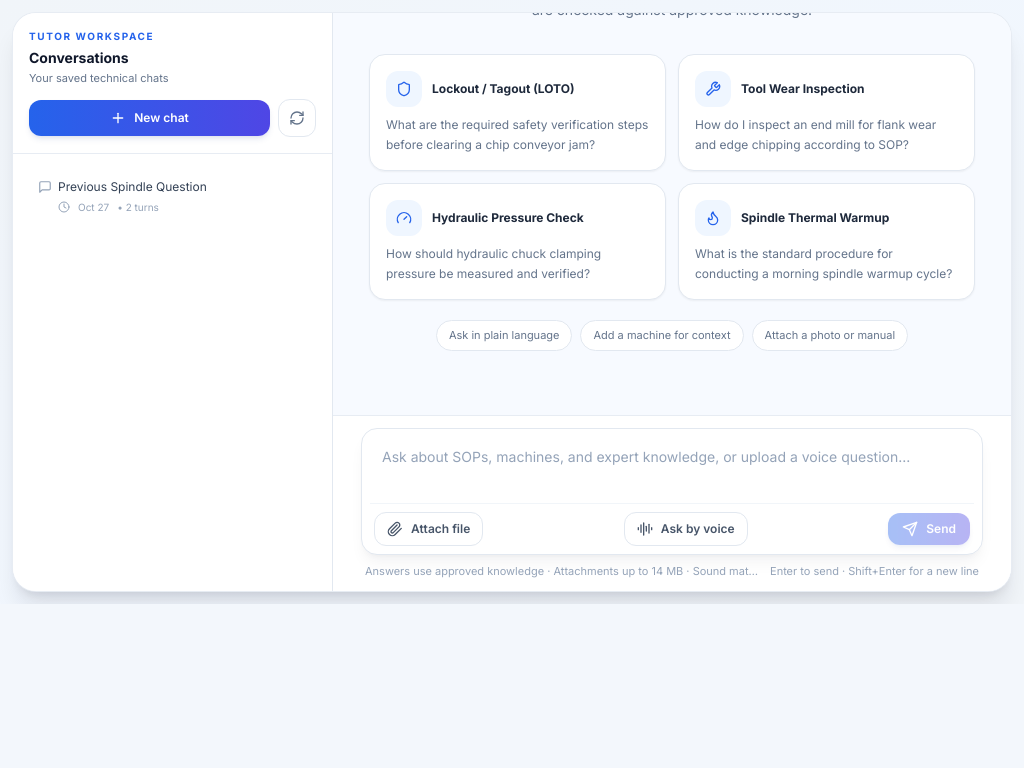
it: AI Knowledge Assistant UI Component Tests › sends question, streams tokens, displays citations and opens source drawer
The image size is (1024, 768).
(page scrolled)
Note: Type query and send
Type "How long should spindle warmup be?" into the text box with placeholder "Ask about SOPs, machines".
click(672, 466); type("How long should spindle warmup be?")  # box [370, 436, 974, 496]
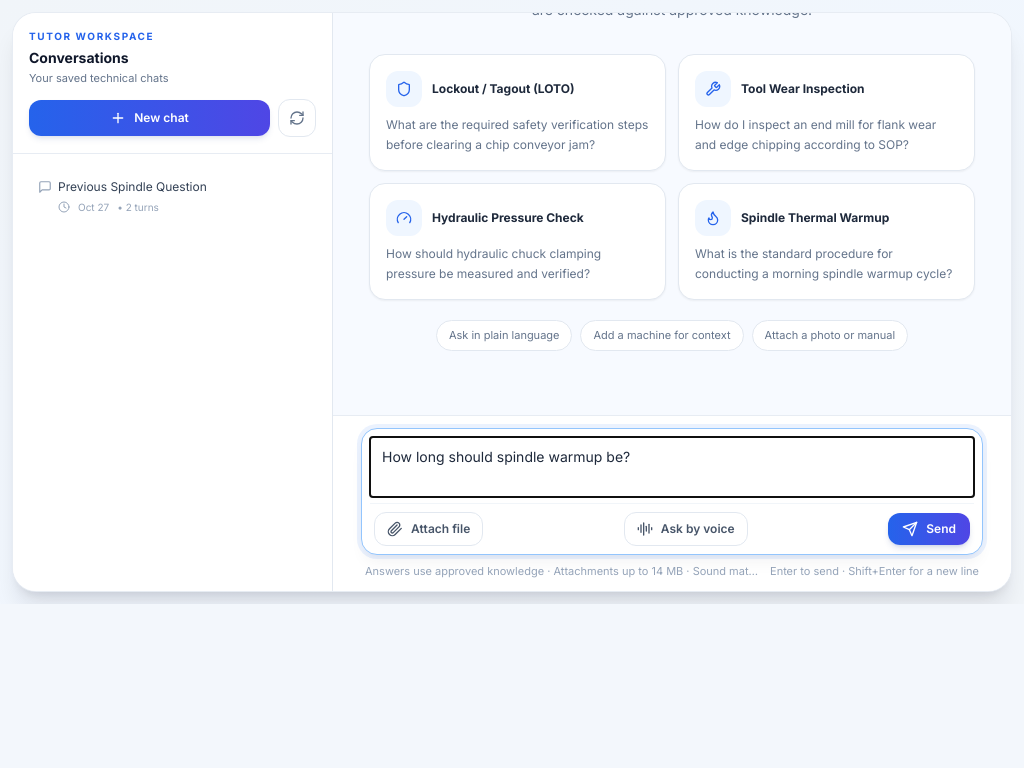
Click the button titled "Send query".
click(929, 528)  # box [888, 512, 970, 544]
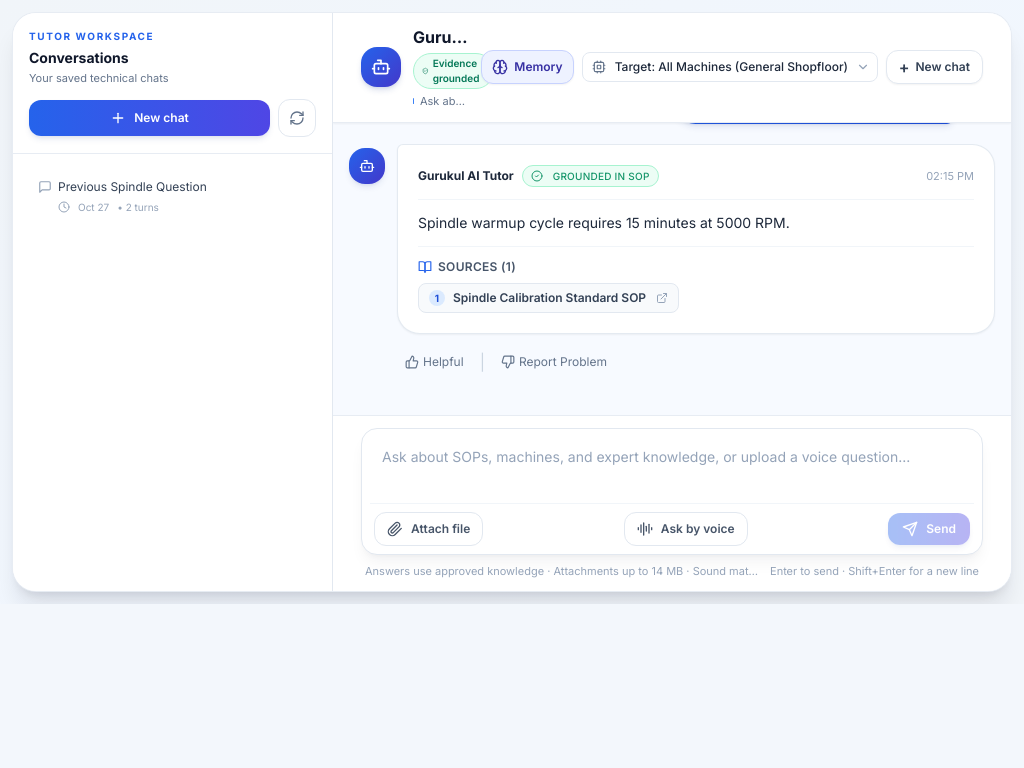
Now the text "Spindle warmup cycle requires 15 minutes at 5000 RPM." is shown, box [418, 214, 790, 230]
Now the text "Grounded in SOP" is shown, box [522, 164, 659, 186]
Now the text "Spindle Calibration Standard SOP" is shown
Note: Clicking citation chip opens verified source drawer
Click the text "Spindle Calibration Standard SOP".
click(550, 298)  # box [453, 290, 646, 306]
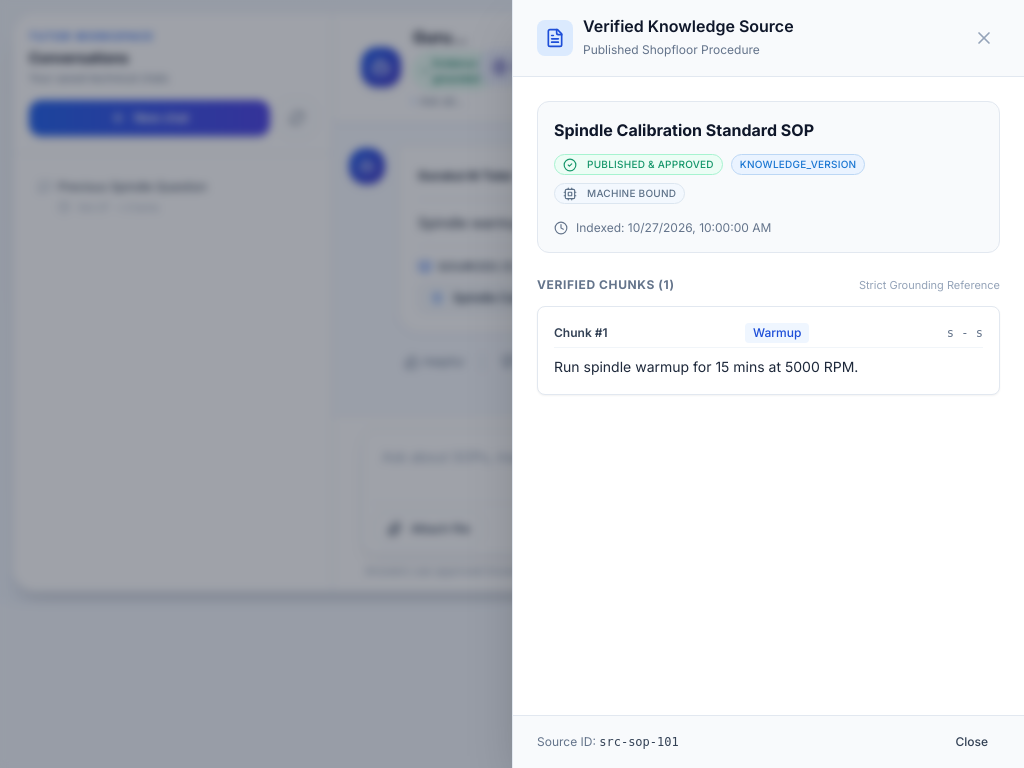
Now the heading "Verified Knowledge Source" is shown, box [583, 16, 794, 36]
Now the text "Run spindle warmup for 15 mins at 5000 RPM." is shown, box [554, 358, 858, 374]
